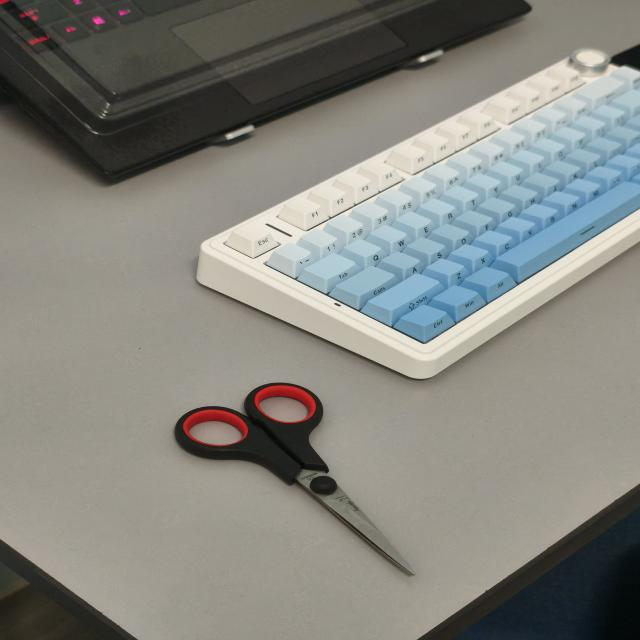scissor: (174, 380, 424, 578)
